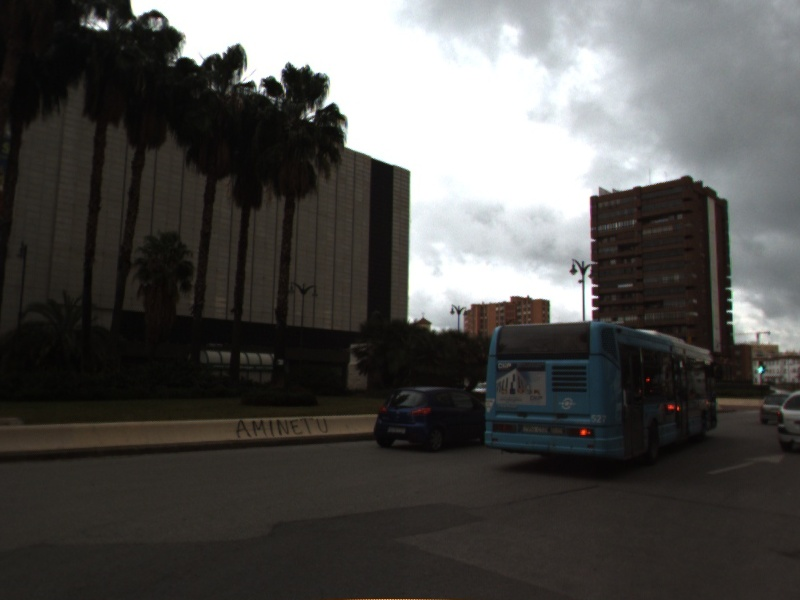STRAIGHT: (704, 451, 788, 477)
